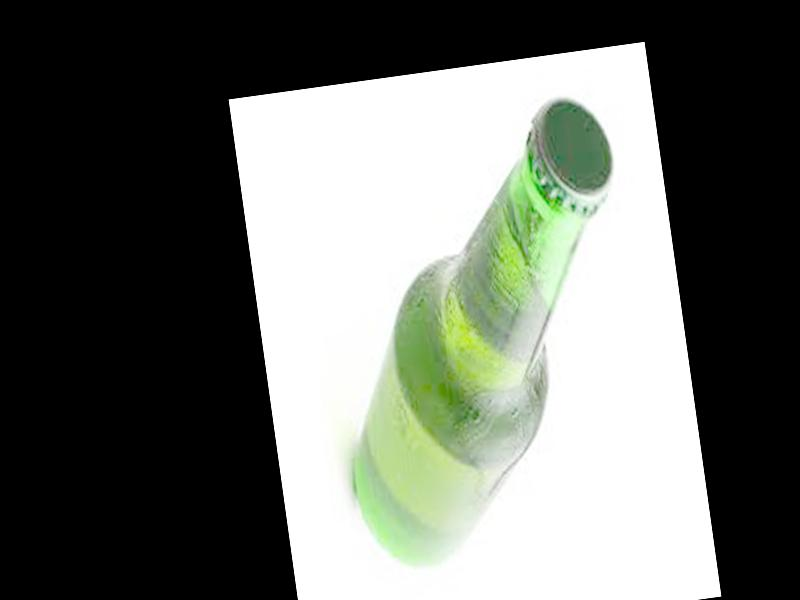Beer: (303, 92, 663, 577)
